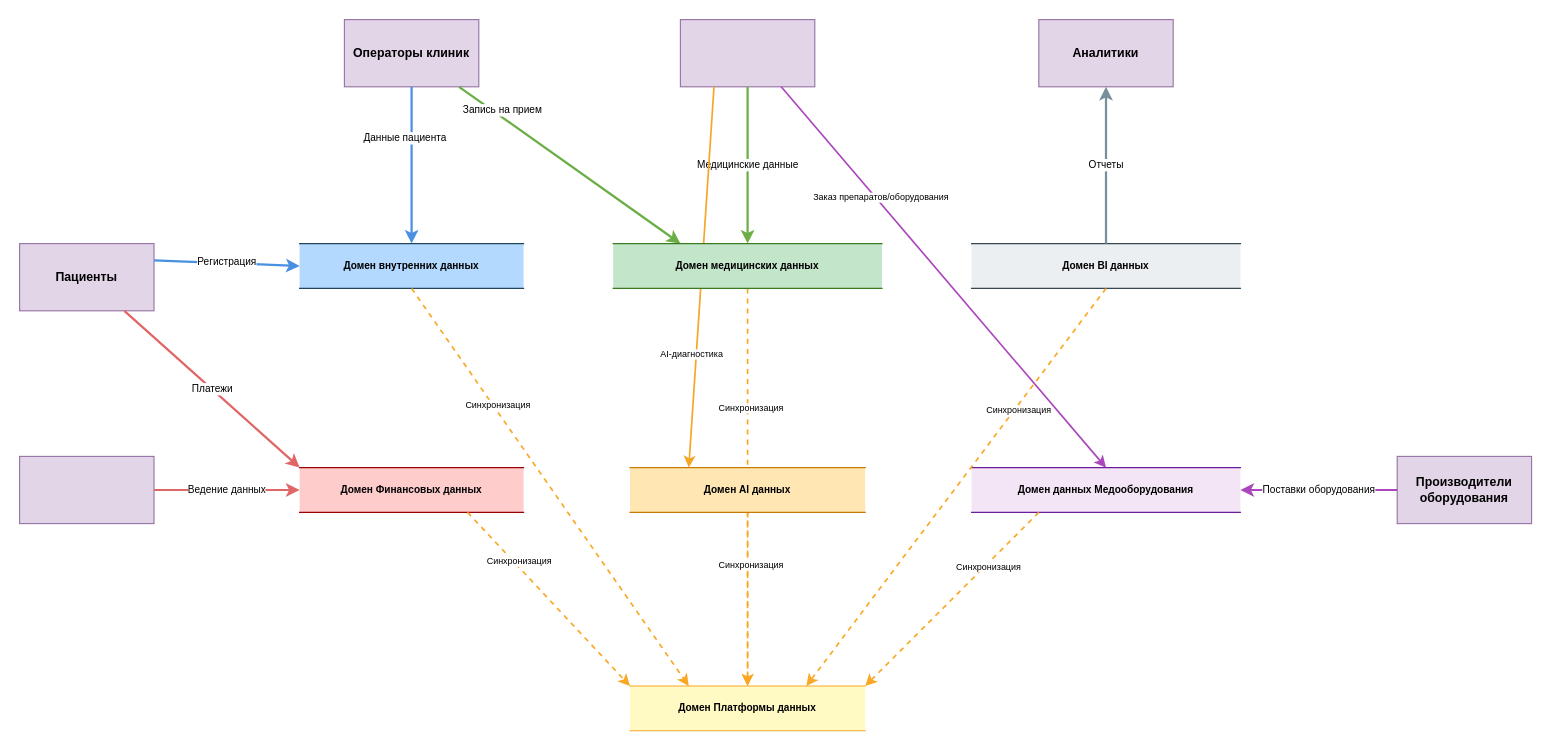
Some shapes in this 1551 by 750 pixel diagram are drawn without their labels. Each missing label, with the centre of its shape:
"Врачи" goes at (x=747, y=52).
"Финансисты" goes at (x=86, y=489).
